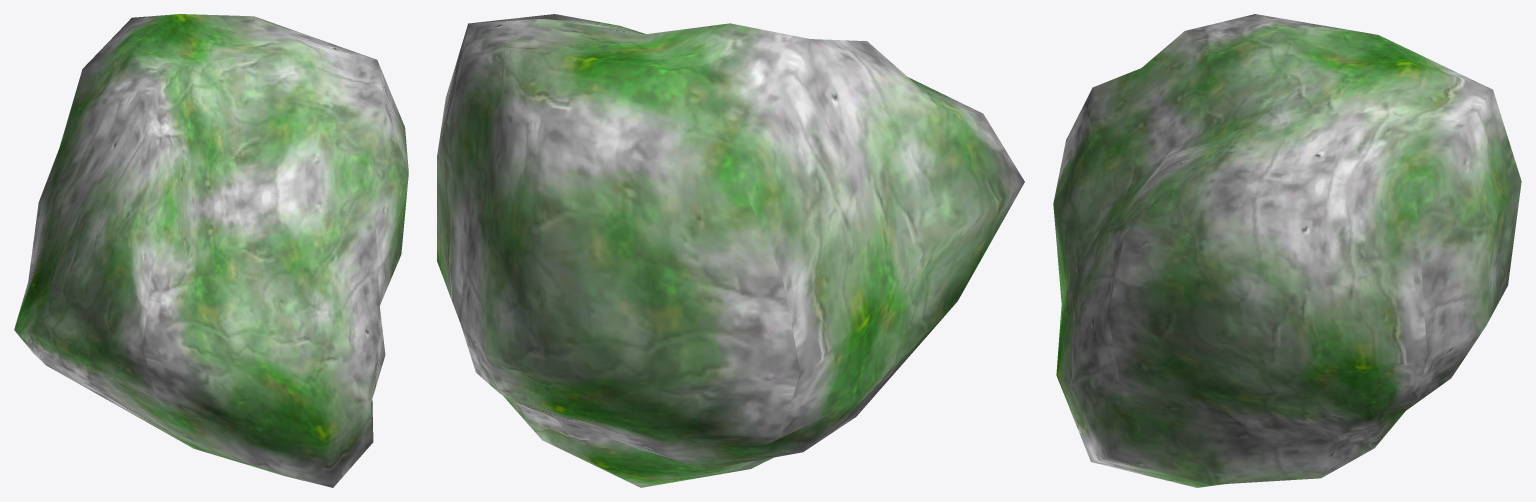
Rendered from INST_HTOWN_ROCKA.fbx.
3 views of the same model, side by side, from view 1: azimuth 30°, elevation 25°; view 2: azimuth 150°, elevation 25°; view 3: azimuth 270°, elevation 25° (orthographic). The views are drawn at different scales.
Visible parts, largest first — view 1: INST_HTOWN_ROCKA; view 2: INST_HTOWN_ROCKA; view 3: INST_HTOWN_ROCKA.
Boxes of the visible parts, box(x1,y1,x2,y2) form: INST_HTOWN_ROCKA: box(14, 14, 408, 487); INST_HTOWN_ROCKA: box(437, 14, 1024, 487); INST_HTOWN_ROCKA: box(1053, 14, 1521, 487).
Bounding box in the file's own units: 21252 × 21252 × 21252.
1 material, 1 textured.
